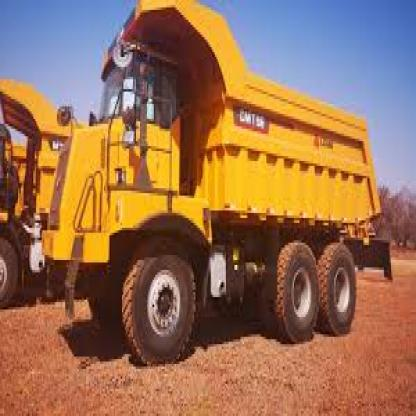dump_truck: (43, 2, 391, 369)
